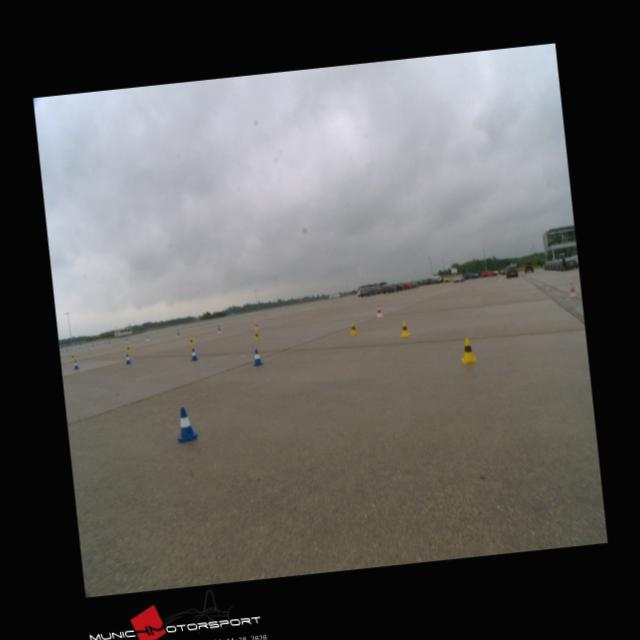blue_cone: (174, 406, 198, 443), (252, 348, 262, 364), (189, 348, 198, 360), (124, 353, 131, 364), (72, 359, 78, 369)
yellow_cone: (459, 338, 476, 363), (399, 320, 410, 336), (349, 322, 357, 335), (253, 330, 259, 340), (188, 336, 194, 345), (126, 344, 130, 352), (70, 354, 74, 361)
